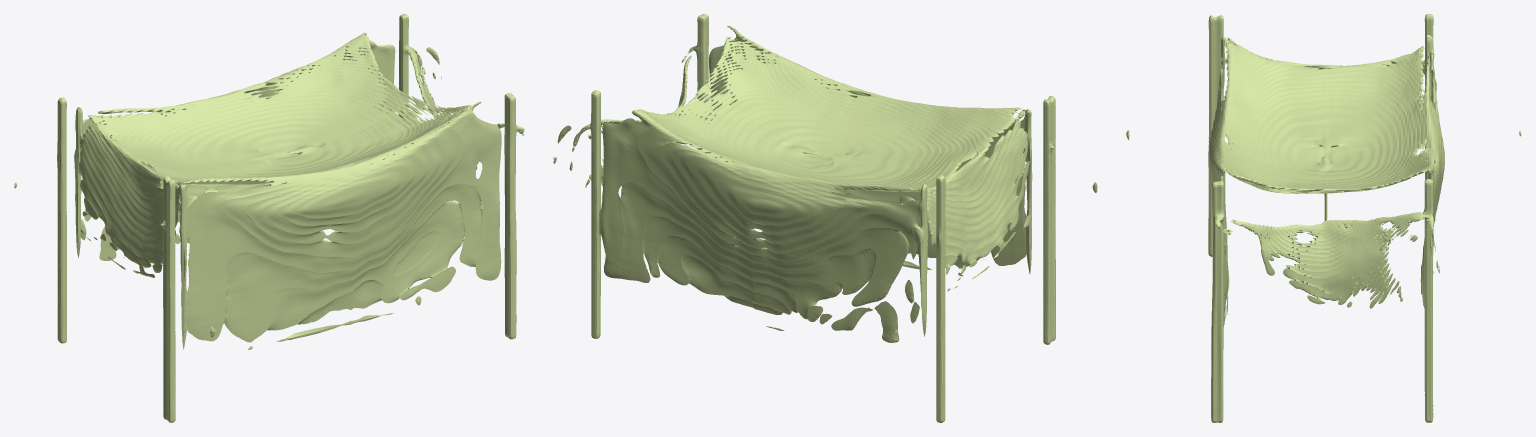
Rendered from canopy.glb.
3 views of the same model, side by side, from view 1: azimuth 30°, elevation 25°; view 2: azimuth 150°, elevation 25°; view 3: azimuth 270°, elevation 25° (orthographic).
Parts seen in each view (by area): view 1: Block3D_Item; view 2: Block3D_Item; view 3: Block3D_Item.
Boxes of the visible parts, left/top/right/bottom form: Block3D_Item: left=14, top=14, right=524, bottom=422; Block3D_Item: left=553, top=14, right=1097, bottom=422; Block3D_Item: left=1126, top=14, right=1521, bottom=422.
Bounding box in the file's own units: 1.8 × 1.09 × 1.6.
